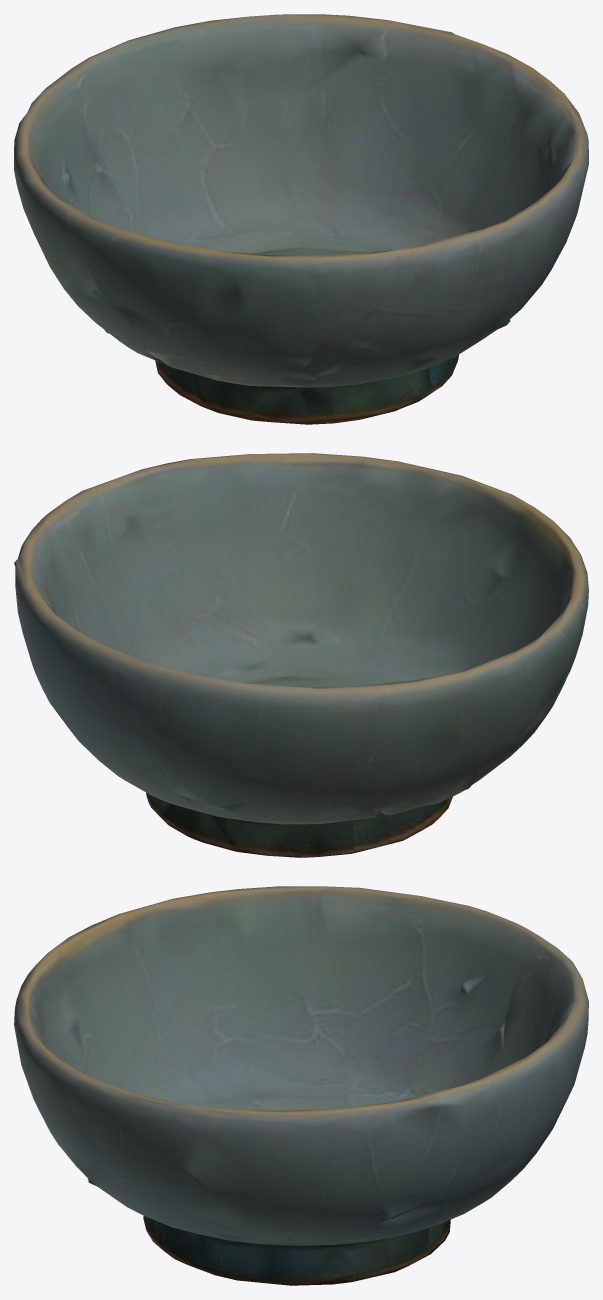
The model's file is bowl_jade.glb.
3 renders of one model, top to bottom at view 1: azimuth 30°, elevation 25°; view 2: azimuth 150°, elevation 25°; view 3: azimuth 270°, elevation 25°, orthographic.
Visible parts, largest first — view 1: bowl_jade; view 2: bowl_jade; view 3: bowl_jade.
Part boxes in pixels (x1=…): bowl_jade: x1=14, y1=14, x2=588, y2=424; bowl_jade: x1=14, y1=453, x2=588, y2=857; bowl_jade: x1=14, y1=886, x2=588, y2=1285.
Bounding box in the file's own units: 0.9974 × 0.4446 × 1.
1 material, 1 textured.
